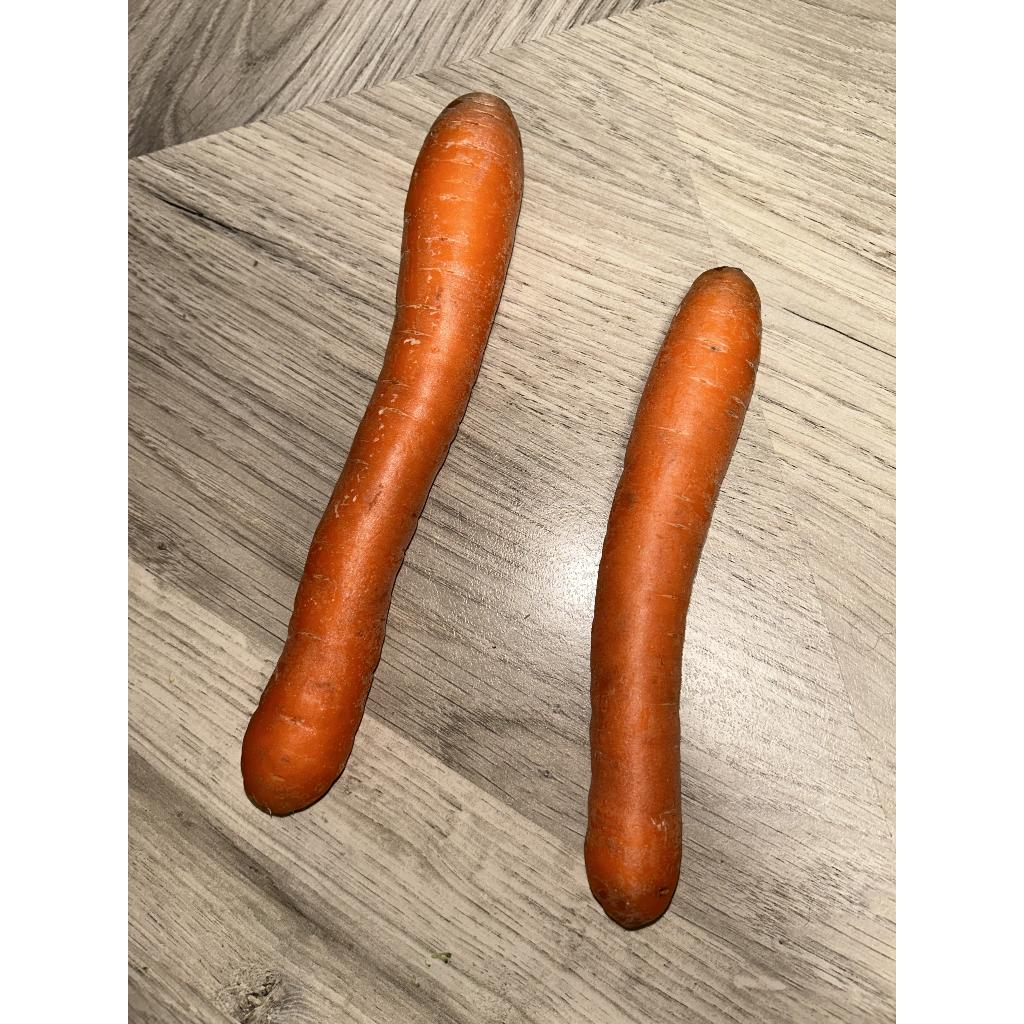carrot: (242, 92, 524, 816), (584, 268, 762, 928)
